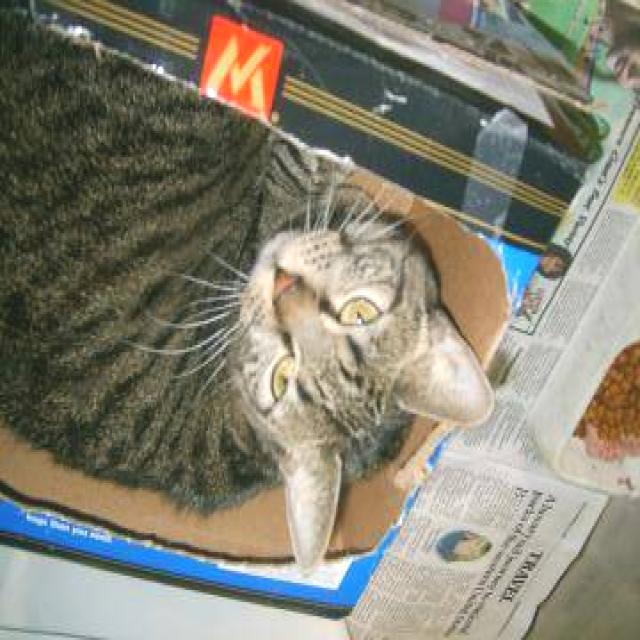Kucing: (0, 5, 526, 592)
